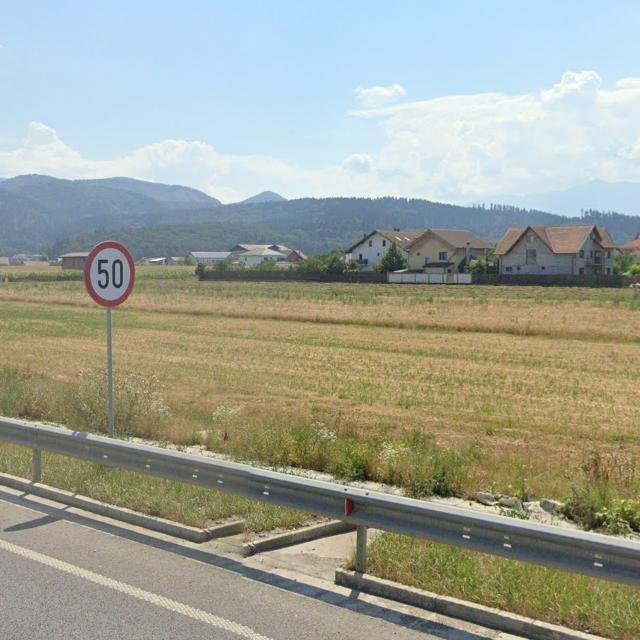forb_speed_over_50: (85, 239, 137, 308)
